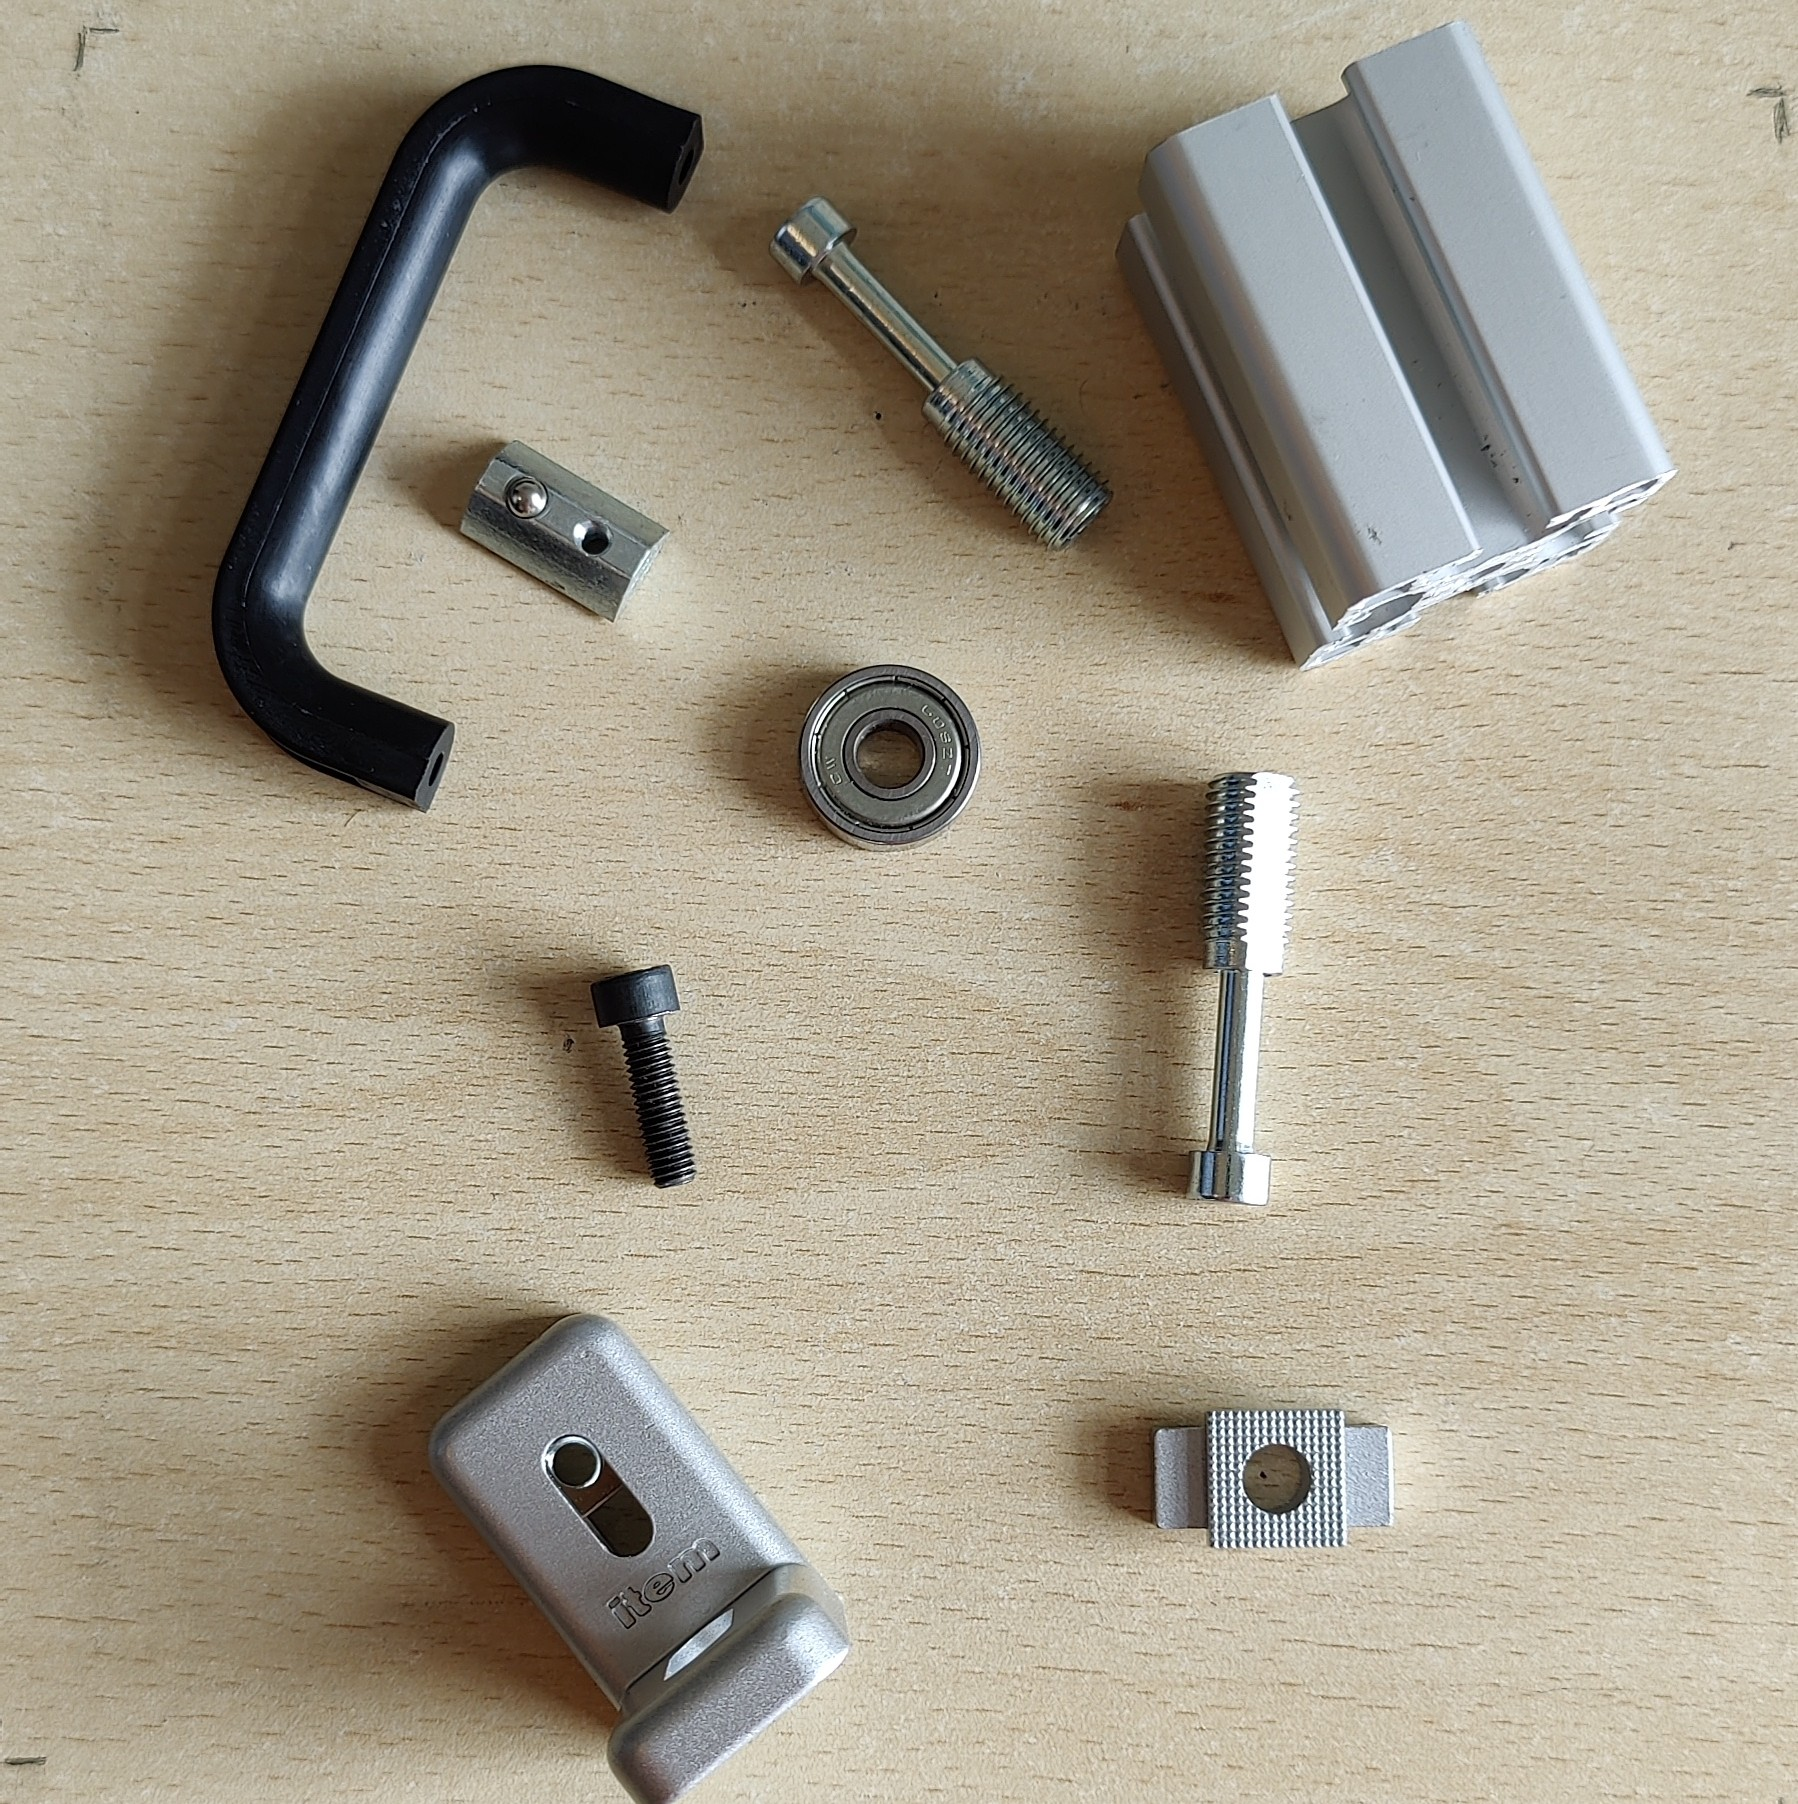Aluminium Extension: (1113, 21, 1676, 678)
Ball Bearing: (795, 660, 985, 853)
Multiwinkel: (425, 1310, 856, 1804)
Pull Handle: (209, 59, 706, 818)
Shoulder Socket Head Cap Screw: (766, 193, 1115, 553), (1182, 770, 1302, 1210)
Socket Head Cap Screw: (588, 961, 700, 1192)
T Nut Square: (1148, 1406, 1400, 1554)
T Spring Nut: (454, 438, 677, 627)
